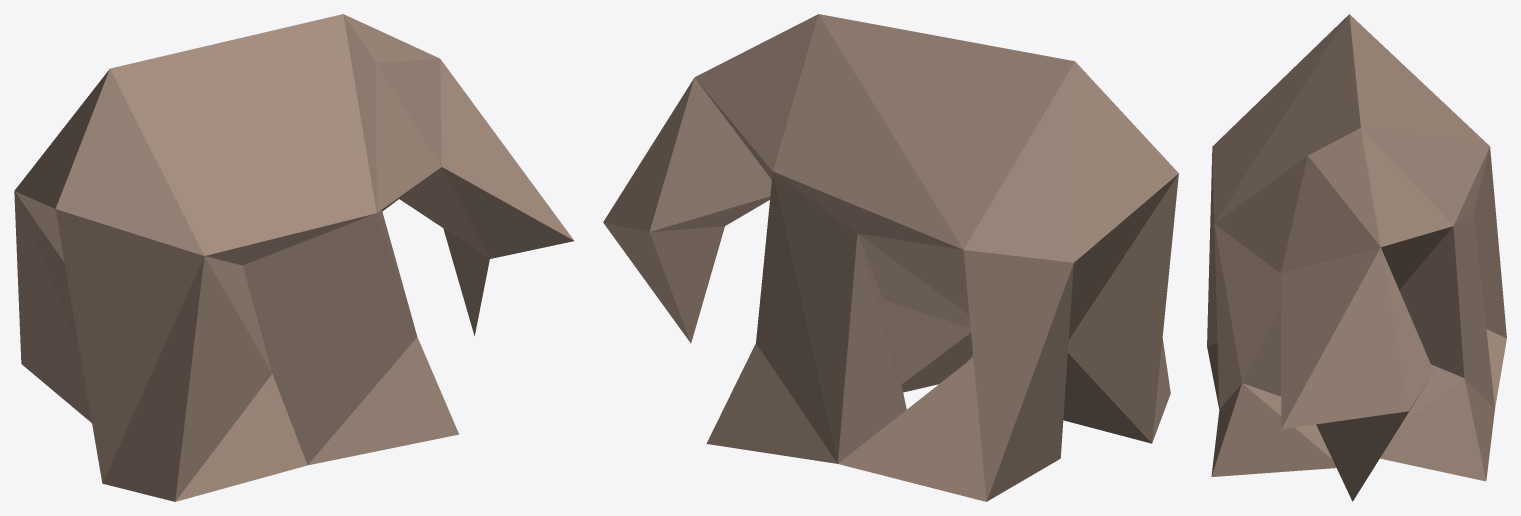
3 views of the same model, side by side, from view 1: azimuth 30°, elevation 25°; view 2: azimuth 150°, elevation 25°; view 3: azimuth 270°, elevation 25° (orthographic). The views are drawn at different scales.
Parts seen in each view (by area): view 1: part0; view 2: part0; view 3: part0.
Part boxes in pixels (bbox=[...]): part0: bbox=[14, 14, 574, 501]; part0: bbox=[603, 14, 1178, 501]; part0: bbox=[1207, 14, 1506, 501].
Bounding box in the file's own units: 4.43 × 3.2 × 2.51.
